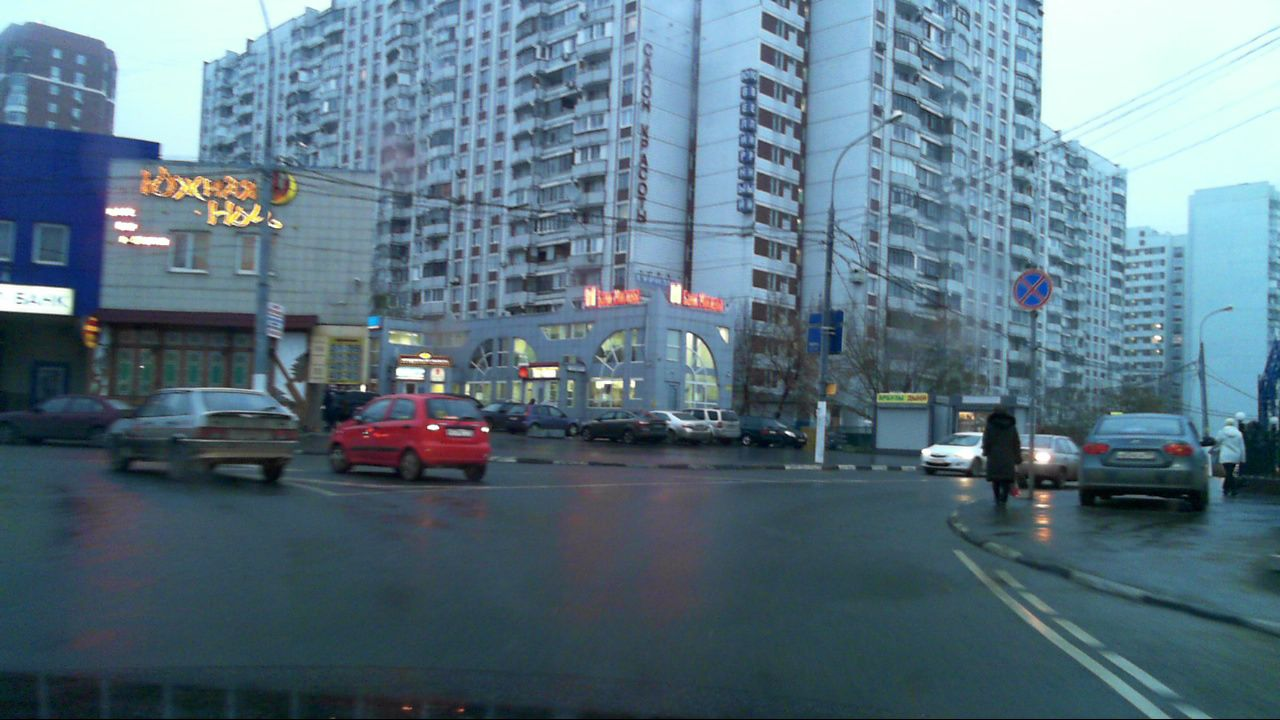No Parking: (1011, 270, 1052, 308)
